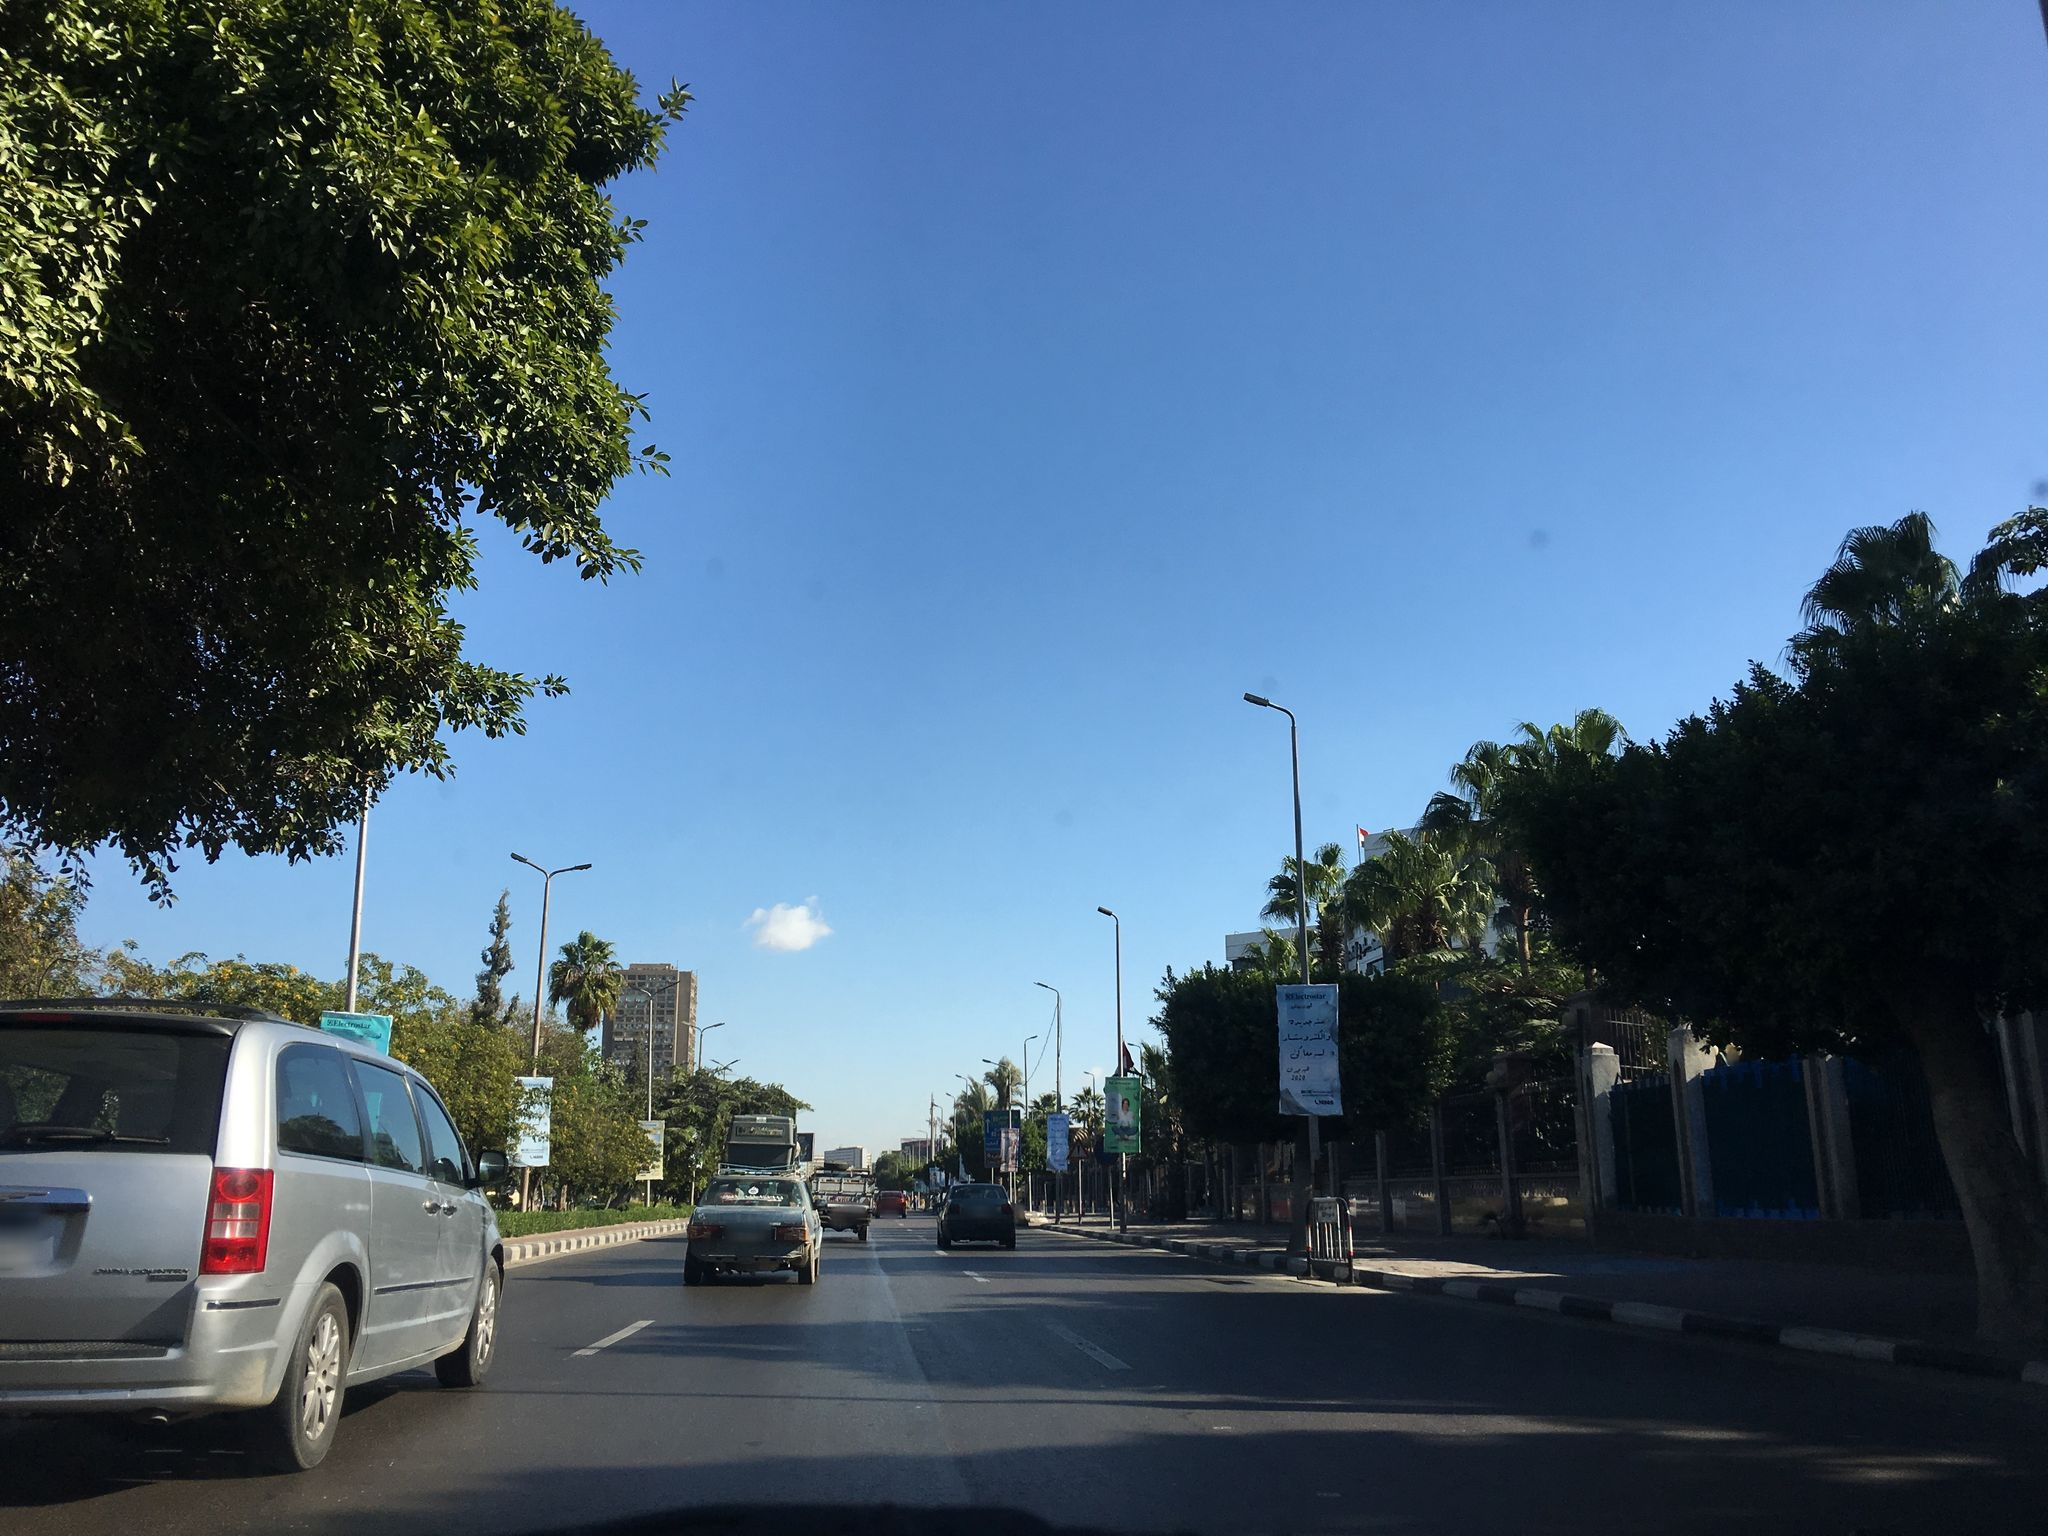car: (0, 989, 514, 1478), (676, 1162, 827, 1284), (934, 1183, 1016, 1247), (872, 1191, 908, 1218)
truck: (808, 1165, 876, 1241)
